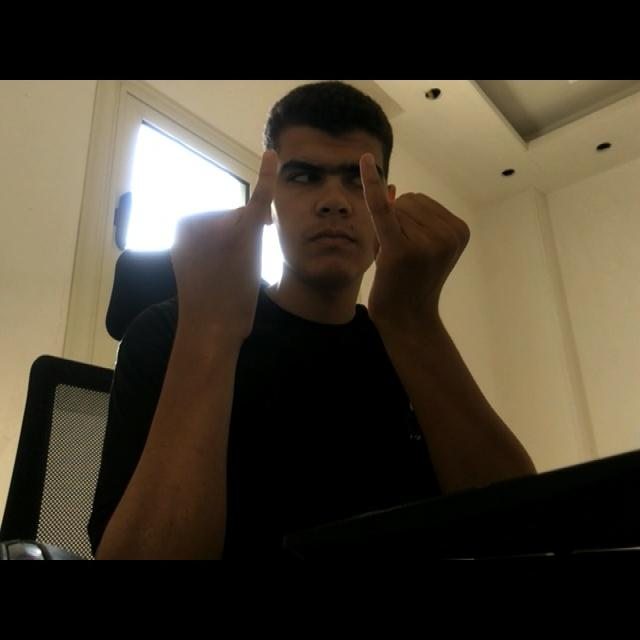No: (148, 137, 492, 323)
